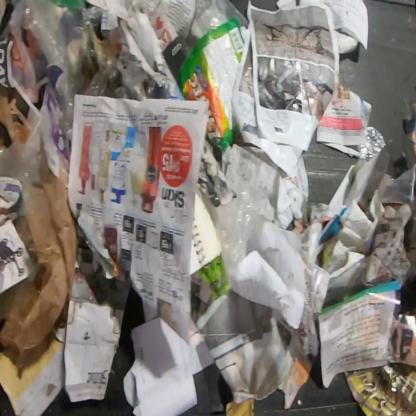cardboard: (63, 298, 125, 402), (0, 330, 65, 415)
soft_plastic: (0, 138, 79, 366), (10, 0, 85, 141), (62, 7, 159, 100), (210, 179, 253, 276), (0, 140, 42, 201), (0, 82, 35, 145), (376, 163, 416, 211), (196, 0, 249, 36), (358, 126, 386, 161)
